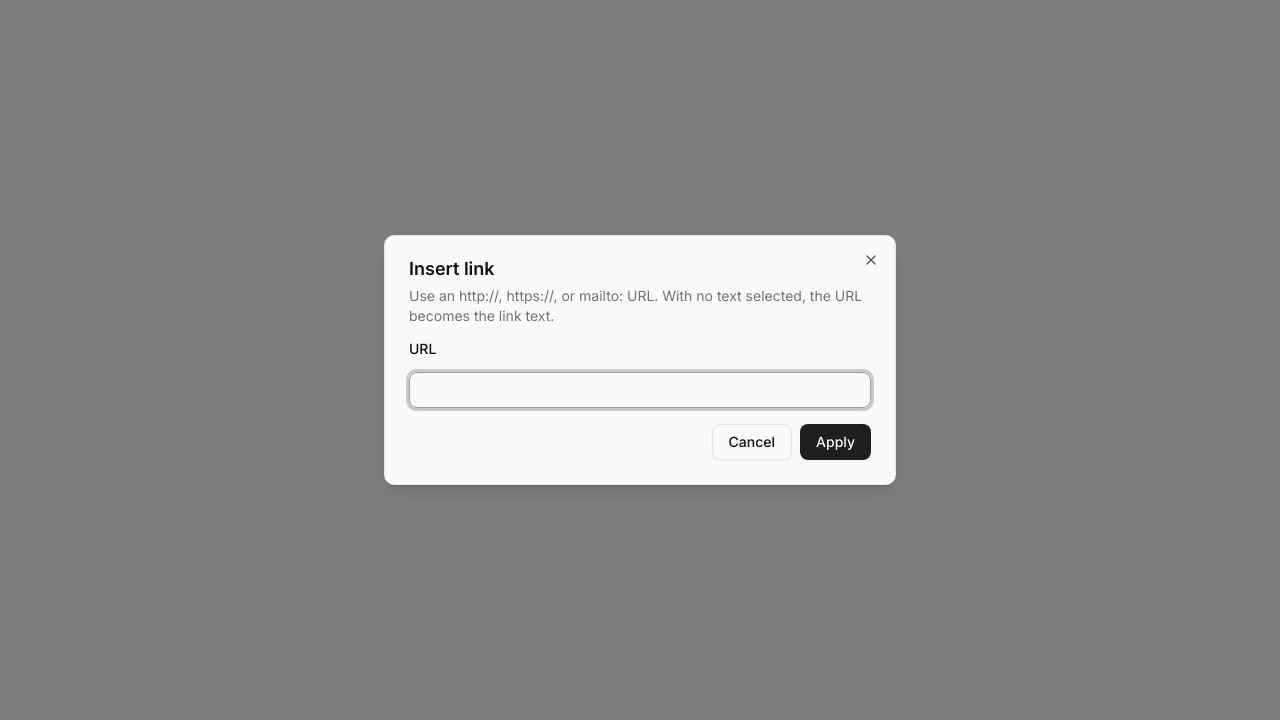
Scenario: preserves default post rejection of /about
In the field labelled "URL": {"x": 640, "y": 390} [409, 372, 871, 408], type "/about"
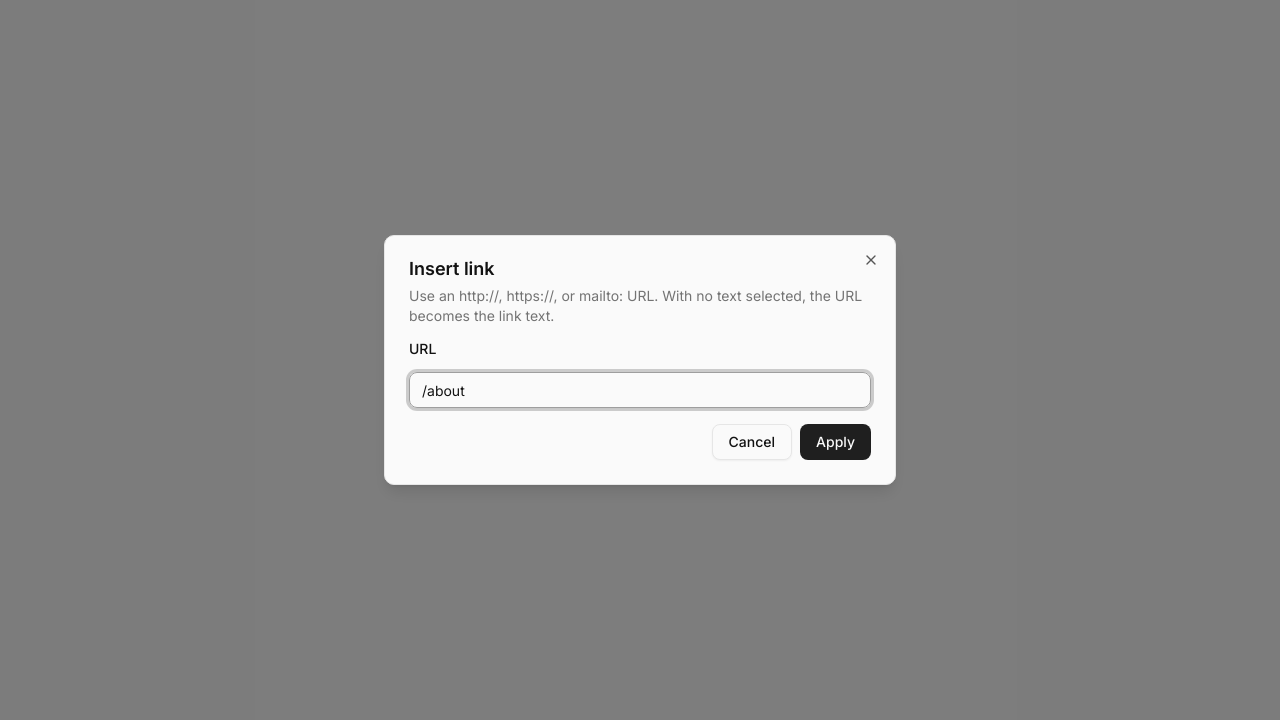
Click the button "Apply": {"x": 836, "y": 442} [800, 424, 871, 460]
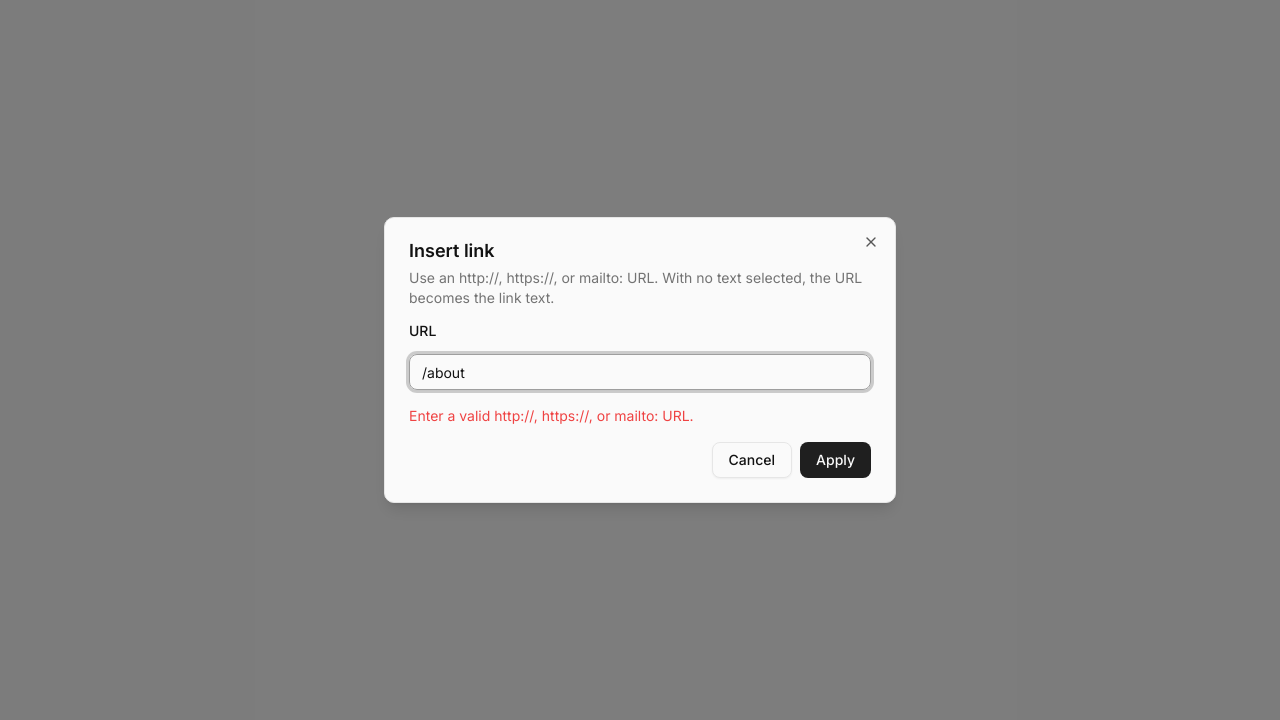
Expected: the message reads "Enter a valid http://, https://, or mailto: URL.", [409, 407, 694, 424]
